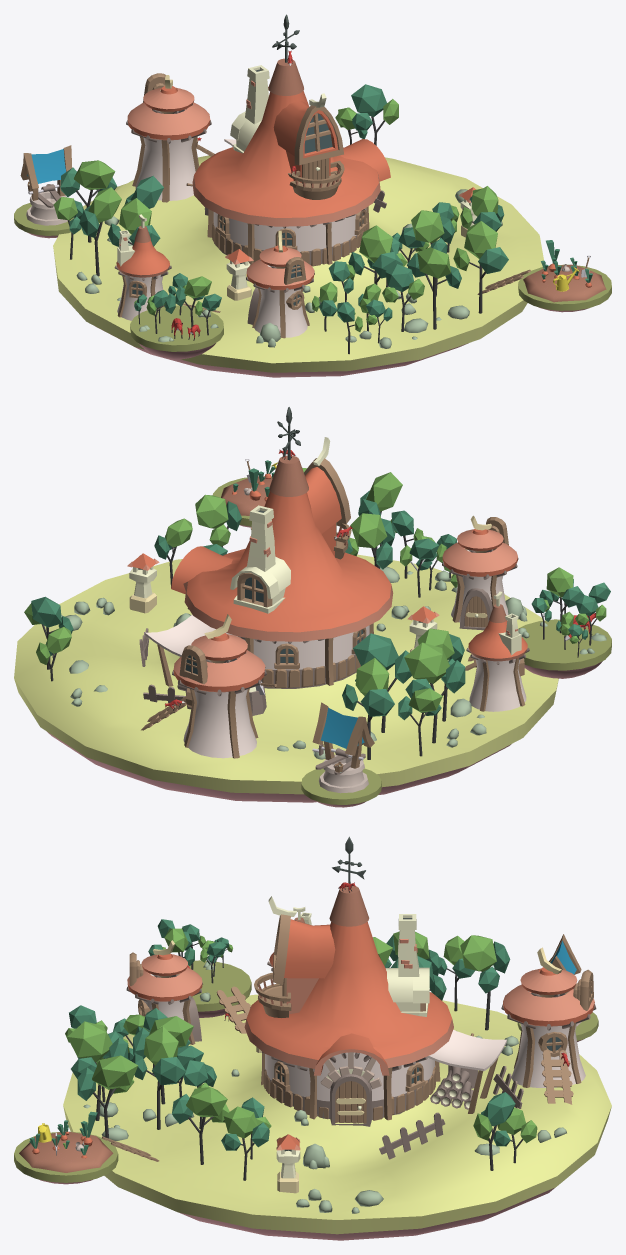
File: island-transformed.glb
3 views of the same model, one above another, from view 1: azimuth 30°, elevation 25°; view 2: azimuth 150°, elevation 25°; view 3: azimuth 270°, elevation 25° (orthographic). The views are drawn at different scales.
Parts seen in each view (by area): view 1: pCube11_rocks1_0, pCube27_phongE1_0; view 2: pCube11_rocks1_0, pCube27_phongE1_0; view 3: pCube11_rocks1_0, pCube27_phongE1_0.
Part boxes in pixels (left/top/right/bottom): pCube11_rocks1_0: left=14, top=50, right=611, bottom=377; pCube27_phongE1_0: left=28, top=14, right=590, bottom=291; pCube11_rocks1_0: left=14, top=437, right=611, bottom=807; pCube27_phongE1_0: left=138, top=407, right=512, bottom=760; pCube11_rocks1_0: left=14, top=882, right=611, bottom=1240; pCube27_phongE1_0: left=38, top=836, right=412, bottom=1155.
Size of the model in its own units: 54.94 by 36.4 by 58.8.
Materials: 4 (4 with a texture image).
